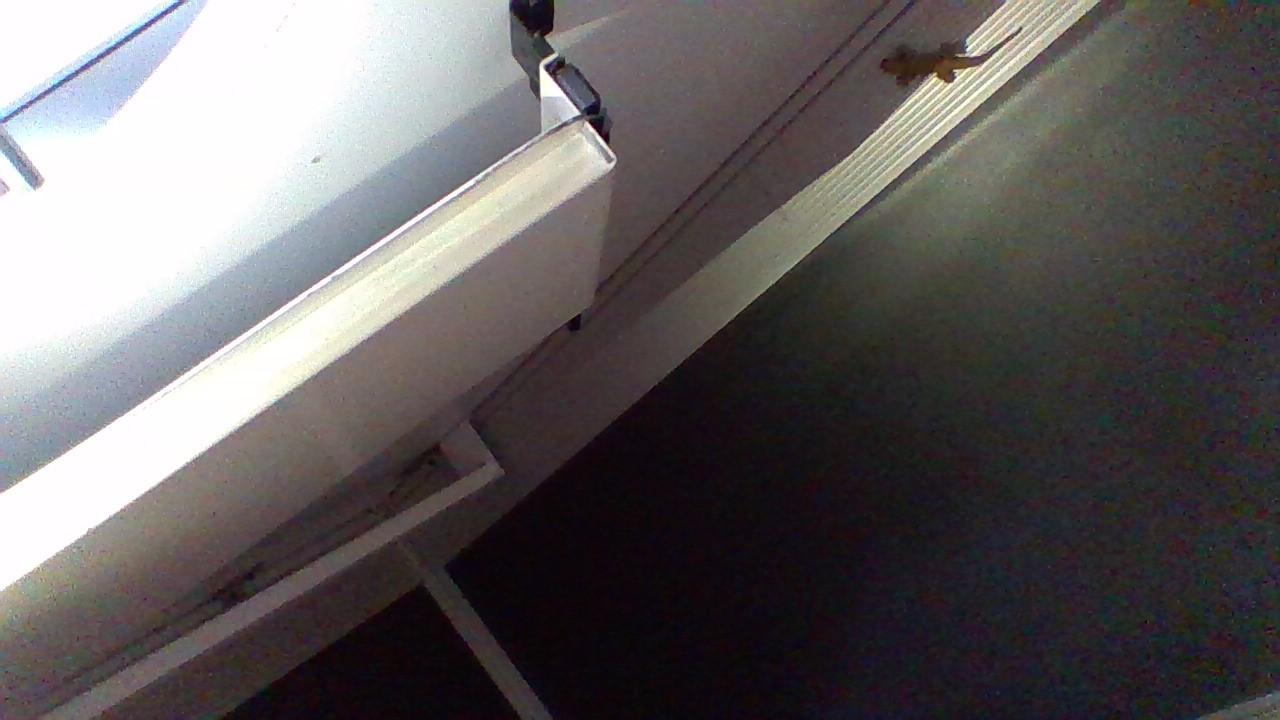lizard: (867, 40, 1017, 84)
